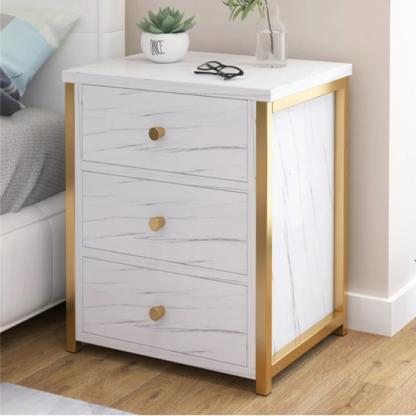Nightstand: (60, 37, 354, 399)
